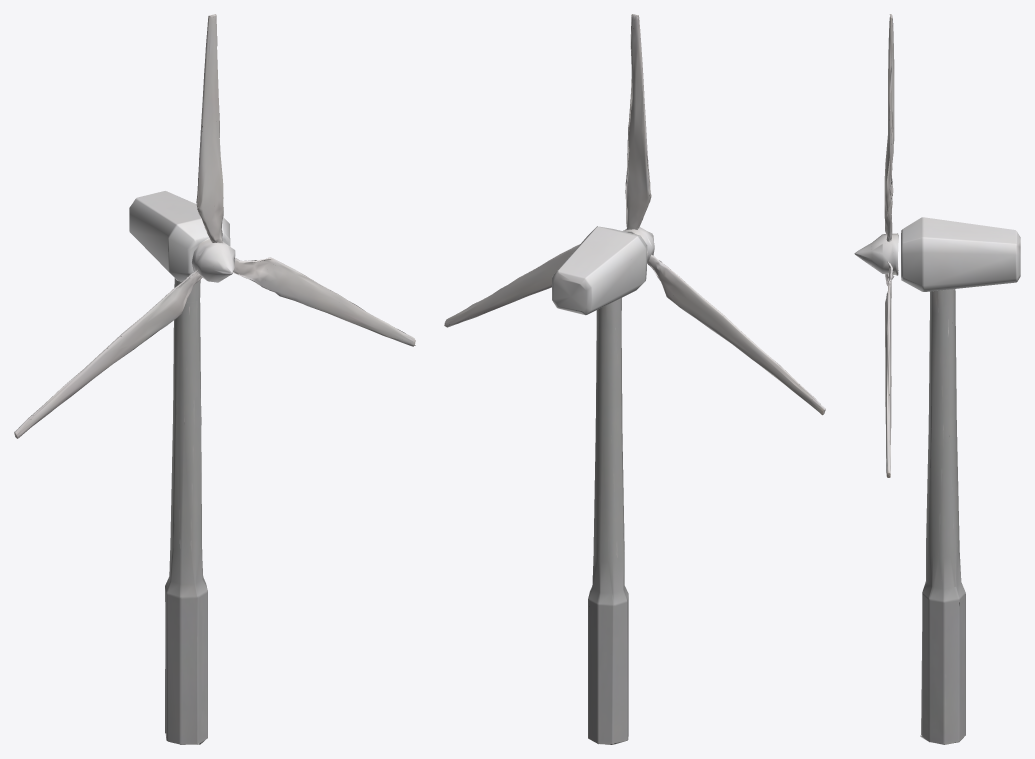
The model's file is 24-wind-turbine.glb.
The picture shows the model from 3 angles, left to right: view 1: azimuth 30°, elevation 25°; view 2: azimuth 150°, elevation 25°; view 3: azimuth 270°, elevation 25°; orthographic projection. The views are drawn at different scales.
Visible parts, largest first — view 1: geometry_0; view 2: geometry_0; view 3: geometry_0.
Part boxes in pixels (left/top/right/bottom): geometry_0: left=14, top=14, right=415, bottom=744; geometry_0: left=444, top=14, right=825, bottom=744; geometry_0: left=854, top=14, right=1020, bottom=744.
Size of the model in its own units: 0.5381 by 0.9507 by 0.1987.
Materials: 1 (1 with a texture image).
